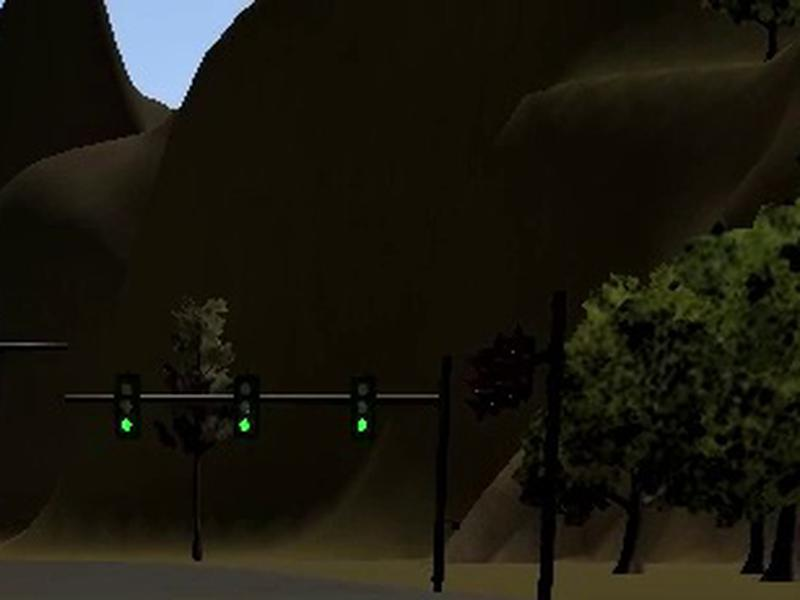Green: (233, 373, 260, 441), (115, 373, 142, 439), (351, 376, 377, 441)
